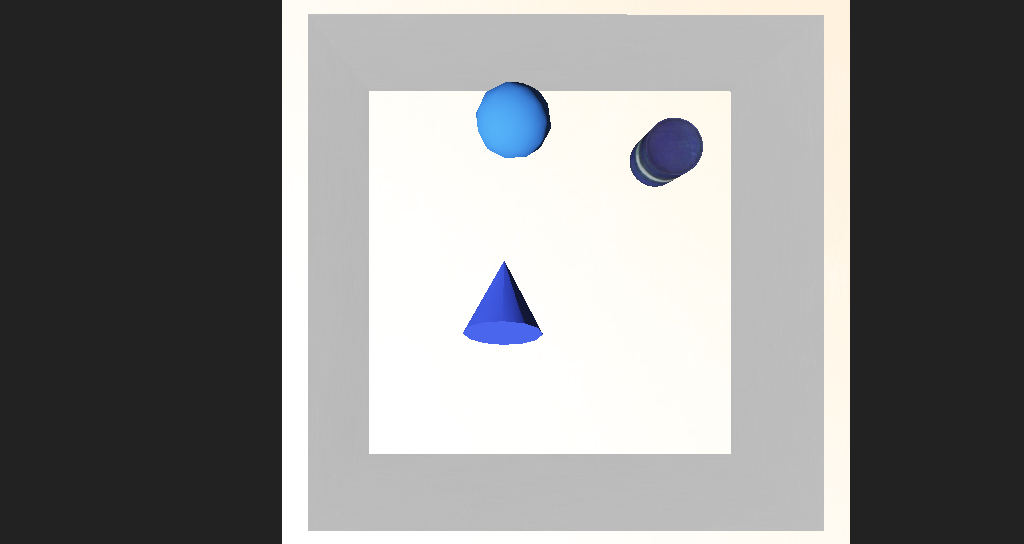cone: (573, 177, 627, 215)
cylinder: (435, 255, 495, 317)
sphere: (448, 160, 509, 203)
